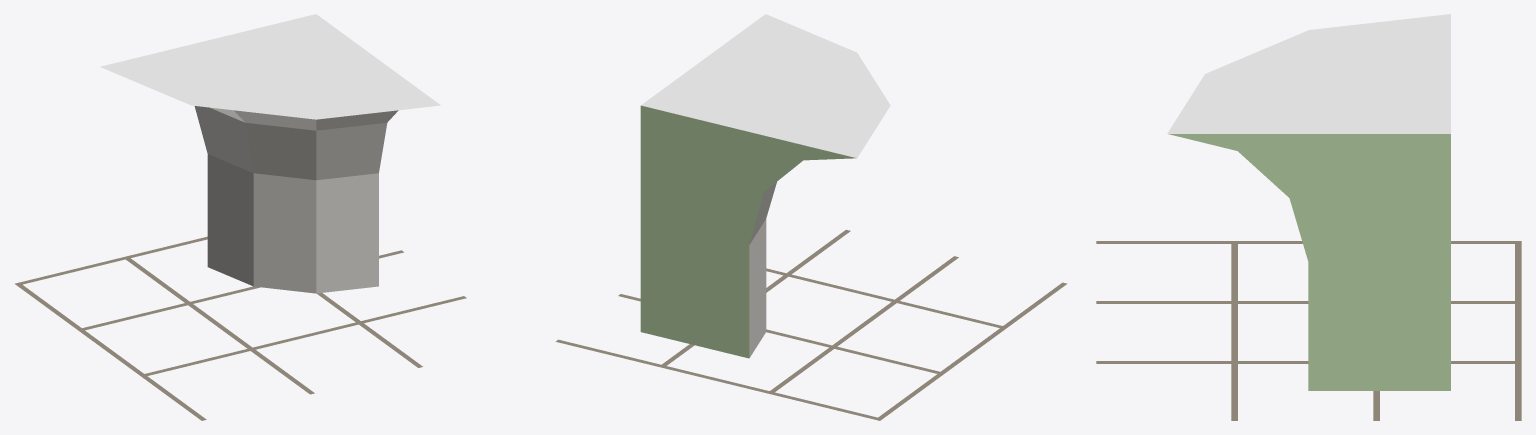
File: Wall_Curve_Outer_2x2_Top.glb
3 views of the same model, side by side, from view 1: azimuth 30°, elevation 25°; view 2: azimuth 150°, elevation 25°; view 3: azimuth 270°, elevation 25° (orthographic). The views are drawn at different scales.
Visible parts, largest first — view 1: Wall_Curve_Outer_2x2_Top, Floor; view 2: Wall_Curve_Outer_2x2_Top, Floor; view 3: Wall_Curve_Outer_2x2_Top, Floor.
Boxes of the visible parts, x1,y1,x2,y2 form: Wall_Curve_Outer_2x2_Top: (100, 14, 440, 293); Floor: (14, 236, 466, 420); Wall_Curve_Outer_2x2_Top: (640, 14, 890, 358); Floor: (555, 229, 1067, 420); Wall_Curve_Outer_2x2_Top: (1167, 14, 1450, 390); Floor: (1096, 241, 1521, 420).
Size of the model in its own units: 300 by 200 by 300.
Materials: 5 (1 with a texture image).
